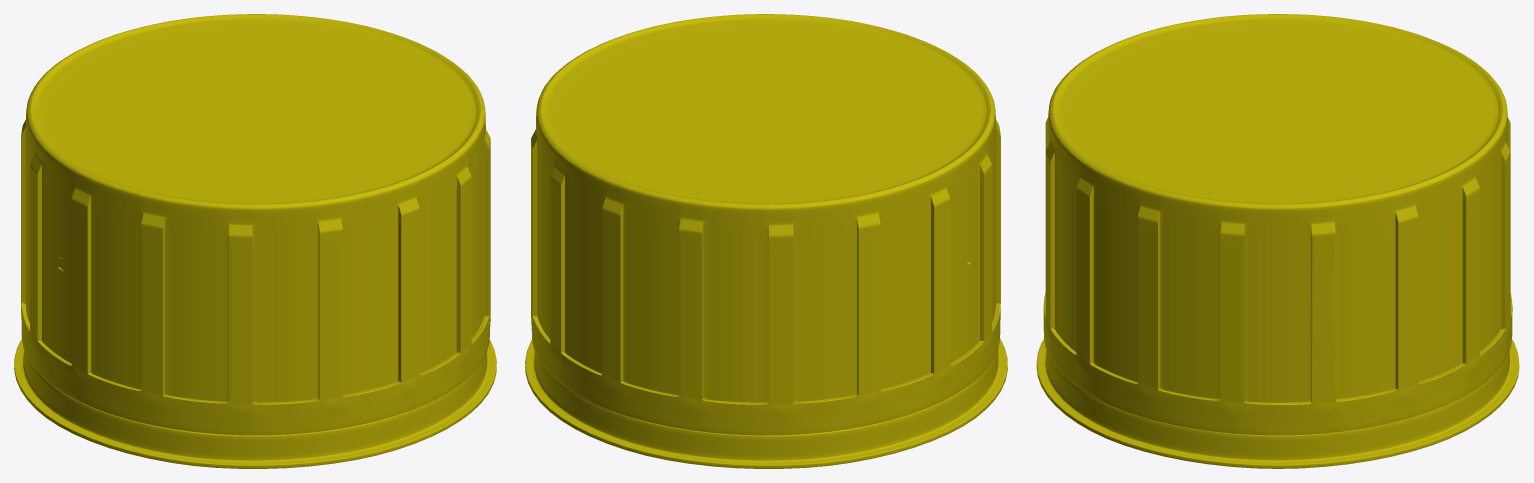
Rendered from Cap6.glb.
The picture shows the model from 3 angles, left to right: view 1: azimuth 30°, elevation 25°; view 2: azimuth 150°, elevation 25°; view 3: azimuth 270°, elevation 25°; orthographic projection.
Parts seen in each view (by area): view 1: Circle, Circle.009; view 2: Circle, Circle.009; view 3: Circle, Circle.009.
Boxes of the visible parts, left/top/right/bottom form: Circle: left=21, top=14, right=490, bottom=435; Circle.009: left=14, top=339, right=496, bottom=468; Circle: left=531, top=14, right=1000, bottom=435; Circle.009: left=525, top=338, right=1007, bottom=468; Circle: left=1043, top=14, right=1512, bottom=435; Circle.009: left=1036, top=338, right=1519, bottom=468.
Size of the model in its own units: 0.0523 by 0.0308 by 0.0523.
